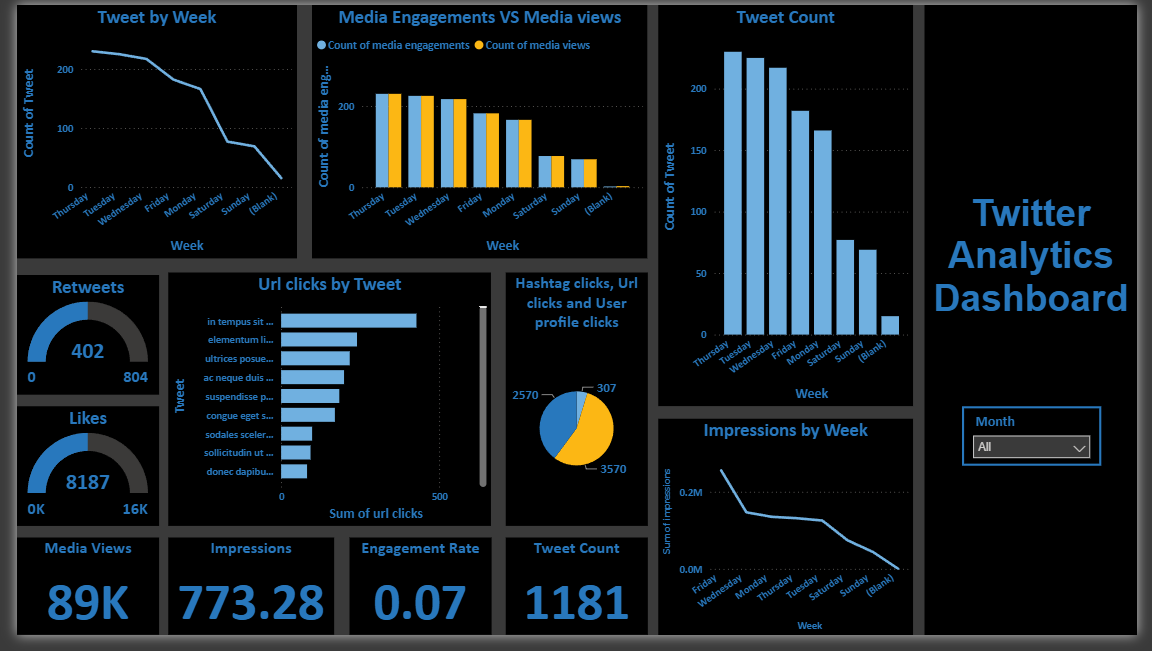

This screenshot's page, from the dashboard's own definition file:
{"tool":"powerbi","page":{"name":"Twitter Analytics Dashbboard","canvas":[1280,720],"ordinal":0},"visuals":[{"type":"textbox","box":[1037.1,0,243.4,720.5],"z":0},{"type":"card","title":"Media Views","fields":{"Values":["Sum(SocialMedia (1).media views)"]},"box":[0,609.2,162.2,111.3],"z":1000},{"type":"card","title":"Impressions","fields":{"Values":["Avg(SocialMedia (1).impressions)"]},"box":[173.4,609.2,189.3,111.3],"z":2000},{"type":"card","title":"Engagement Rate","fields":{"Values":["Avg(SocialMedia (1).engagement rate)"]},"box":[380.2,609.2,162.2,111.3],"z":3000},{"type":"card","title":"Tweet Count","fields":{"Values":["CountNonNull(SocialMedia (1).Tweet)"]},"box":[558.3,609.2,162.2,111.3],"z":4000},{"type":"gauge","title":"Likes","fields":{"Y":["Sum(SocialMedia (1).likes)"]},"box":[0,458.1,162.2,136.8],"z":5000},{"type":"gauge","title":"Retweets","fields":{"Y":["Max(SocialMedia (1).retweets)"]},"box":[0,308.6,162.2,136.8],"z":6000},{"type":"slicer","fields":{"Values":["SocialMedia (1).Month"]},"box":[1080,458.1,159.1,68.4],"z":7000},{"type":"lineChart","title":"Tweet by Week","fields":{"Category":["SocialMedia (1).Week"],"Y":["Count(SocialMedia (1).Tweet)"]},"box":[0,0,319.7,289.5],"z":8000},{"type":"lineChart","title":"Impressions by Week","fields":{"Category":["SocialMedia (1).Week"],"Y":["Sum(SocialMedia (1).impressions)"]},"box":[733.3,472.4,291.1,248.1],"z":9000},{"type":"clusteredBarChart","title":"Url clicks by Tweet","fields":{"Category":["SocialMedia (1).Tweet"],"Y":["Sum(SocialMedia (1).url clicks)"]},"box":[173.4,305.4,369,289.5],"z":10000},{"type":"pieChart","title":"Hashtag clicks, Url clicks and User profile clicks","fields":{"Y":["Sum(SocialMedia (1).hashtag clicks)","Sum(SocialMedia (1).url clicks)","Sum(SocialMedia (1).user profile clicks)"]},"box":[558.3,305.4,162.2,289.5],"z":11000},{"type":"clusteredColumnChart","title":"Media Engagements VS Media views","fields":{"Category":["SocialMedia (1).Week"],"Y":["CountNonNull(SocialMedia (1).media engagements)","CountNonNull(SocialMedia (1).media views)"]},"box":[337.2,0,383.3,289.5],"z":12000},{"type":"clusteredColumnChart","title":"Tweet Count","fields":{"Category":["SocialMedia (1).Week"],"Y":["CountNonNull(SocialMedia (1).Tweet)"]},"box":[733.3,0,291.1,458.1],"z":13000}]}

Visuals, with their boxes in screenshot pixels (x1, y1, x2, y2), scaled from the page's 1280x720 canvas onto the 1152x651 screenshot:
textbox: crop(933, 0, 1151, 650)
"Media Views" card: crop(0, 551, 146, 650)
"Impressions" card: crop(156, 551, 326, 650)
"Engagement Rate" card: crop(342, 551, 488, 650)
"Tweet Count" card: crop(502, 551, 648, 650)
"Likes" gauge: crop(0, 414, 146, 538)
"Retweets" gauge: crop(0, 279, 146, 403)
slicer - SocialMedia (1).Month: crop(972, 414, 1115, 476)
"Tweet by Week" lineChart: crop(0, 0, 288, 262)
"Impressions by Week" lineChart: crop(660, 427, 922, 650)
"Url clicks by Tweet" clusteredBarChart: crop(156, 276, 488, 538)
"Hashtag clicks, Url clicks and User profile clicks" pieChart: crop(502, 276, 648, 538)
"Media Engagements VS Media views" clusteredColumnChart: crop(303, 0, 648, 262)
"Tweet Count" clusteredColumnChart: crop(660, 0, 922, 414)
